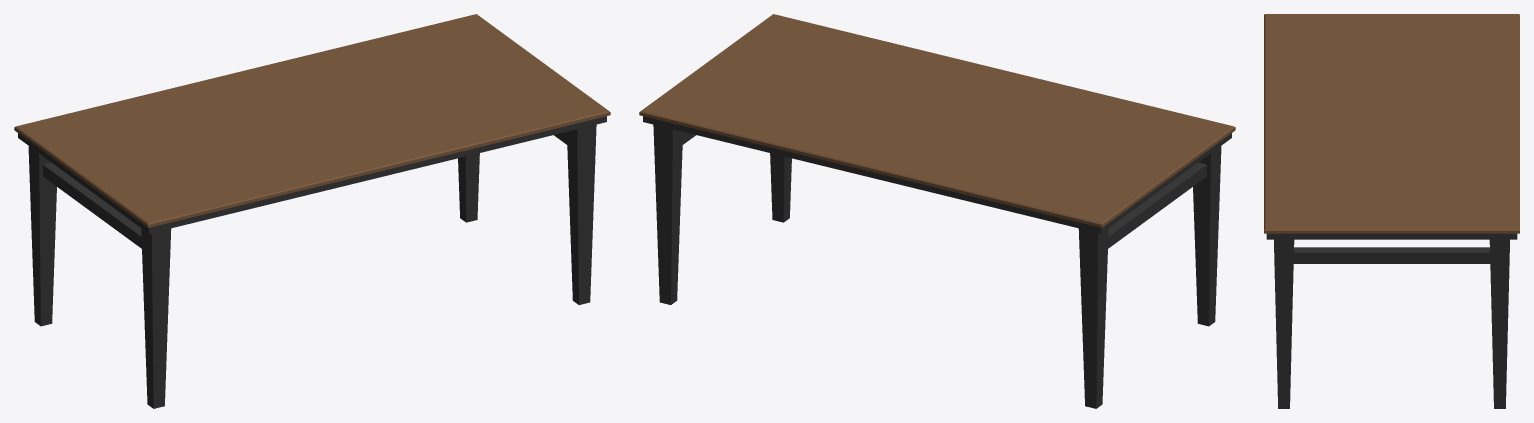
Rendered from Int_Table03.fbx.
The picture shows the model from 3 angles, left to right: view 1: azimuth 30°, elevation 25°; view 2: azimuth 150°, elevation 25°; view 3: azimuth 270°, elevation 25°; orthographic projection. The views are drawn at different scales.
Visible parts, largest first — view 1: Int_Table03; view 2: Int_Table03; view 3: Int_Table03.
Part boxes in pixels (x1=…): Int_Table03: x1=14, y1=14, x2=610, y2=408; Int_Table03: x1=639, y1=14, x2=1235, y2=408; Int_Table03: x1=1264, y1=14, x2=1519, y2=408.
Size of what is drawn, in the model's own units: 200 by 100 by 80.
